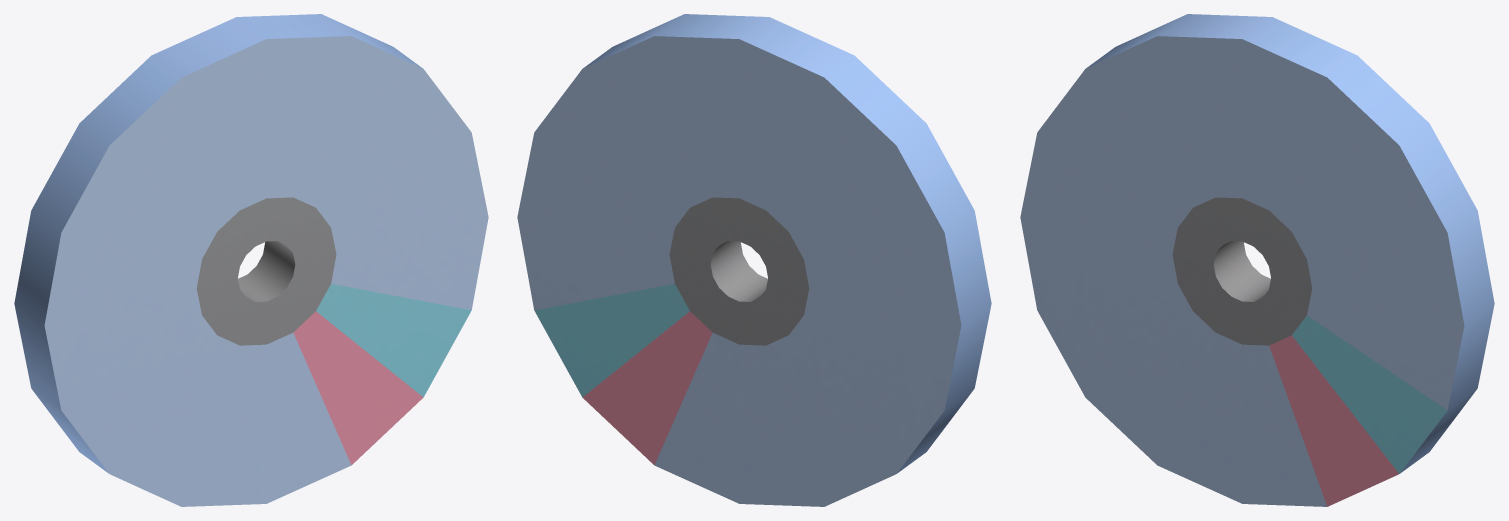
File: SM_Disc.fbx
3 views of the same model, side by side, from view 1: azimuth 30°, elevation 25°; view 2: azimuth 150°, elevation 25°; view 3: azimuth 330°, elevation 25° (orthographic).
Parts seen in each view (by area): view 1: SM_Disc; view 2: SM_Disc; view 3: SM_Disc.
Part boxes in pixels (<box>): SM_Disc: <box>14,14,488,506</box>; SM_Disc: <box>517,14,991,506</box>; SM_Disc: <box>1020,14,1494,506</box>.
Size of the model in its own units: 24 by 24 by 2.82.
